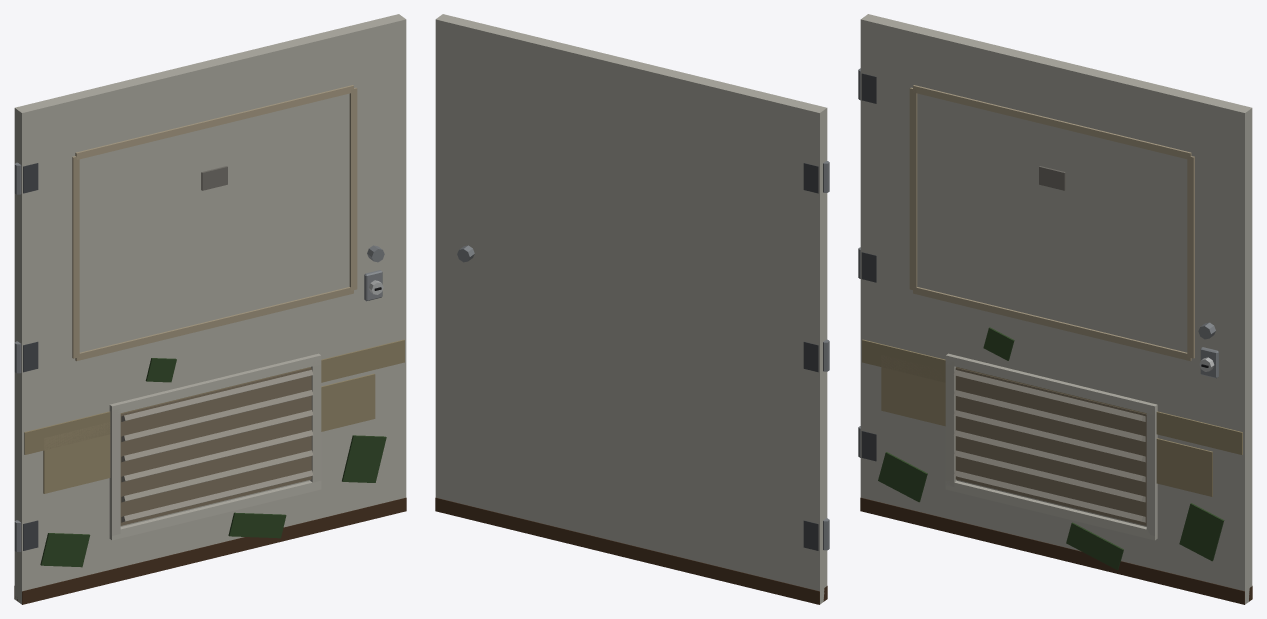
Rendered from bld_door_bath.fbx.
3 views of the same model, side by side, from view 1: azimuth 30°, elevation 25°; view 2: azimuth 150°, elevation 25°; view 3: azimuth 330°, elevation 25° (orthographic).
Parts seen in each view (by area): view 1: bld_door_bath; view 2: bld_door_bath; view 3: bld_door_bath.
Boxes of the visible parts, <box> form: bld_door_bath: <box>14,14,406,604</box>; bld_door_bath: <box>435,14,829,604</box>; bld_door_bath: <box>858,14,1252,604</box>.
Bounding box in the file's own units: 1.82 × 2.2 × 0.162.
